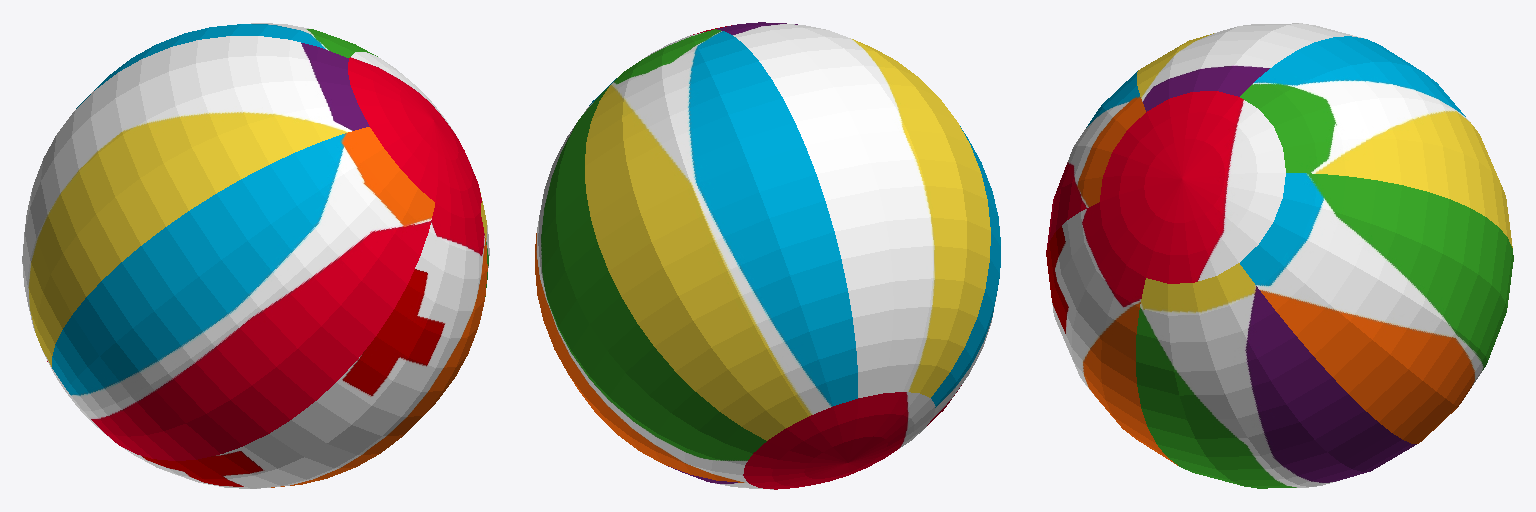
The picture shows the model from 3 angles: view 1: azimuth 30°, elevation 25°; view 2: azimuth 150°, elevation 25°; view 3: azimuth 270°, elevation 25°; orthographic projection.
Visible parts, largest first — view 1: Mesh_Mesh_0; view 2: Mesh_Mesh_0; view 3: Mesh_Mesh_0.
Part boxes in pixels (x1,y1,x2,y2): Mesh_Mesh_0: (22, 23, 489, 488); Mesh_Mesh_0: (535, 22, 1000, 489); Mesh_Mesh_0: (1046, 23, 1513, 488).
Bounding box in the file's own units: 0.9884 × 0.9891 × 0.9929.
1 materials, 1 textured.